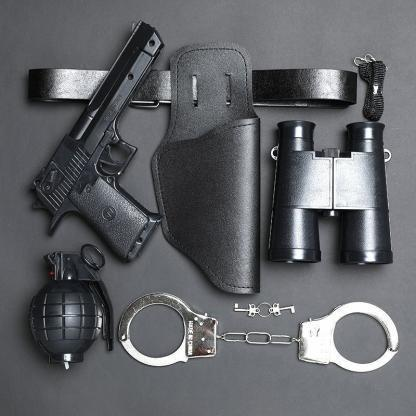Grenade: (29, 244, 116, 368)
Pistol: (27, 19, 169, 265)
